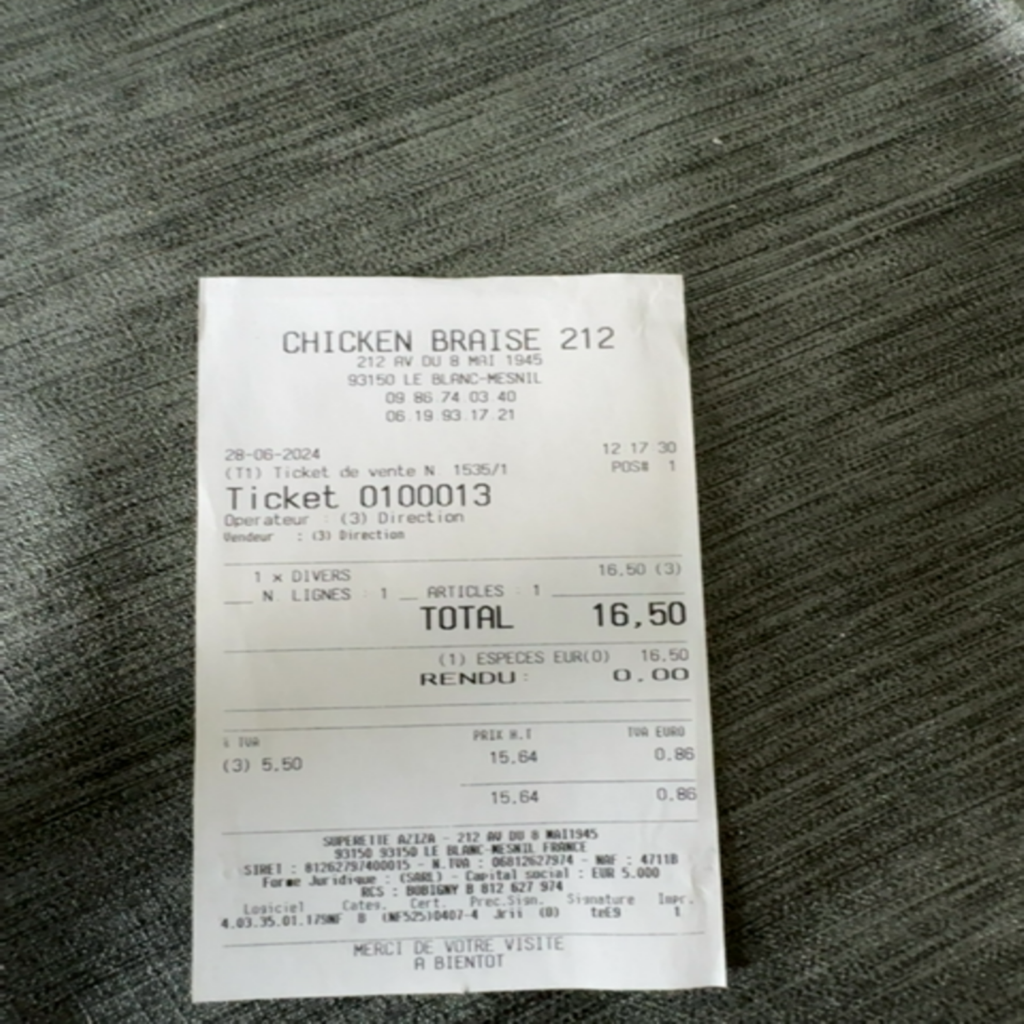recipt: (187, 267, 730, 1005)
